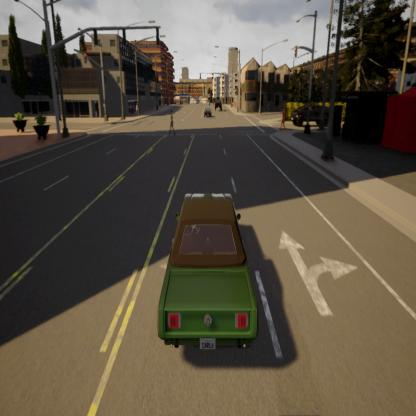Cars: (158, 191, 259, 361), (203, 105, 213, 122)
Pedestrian: (168, 106, 176, 137)
